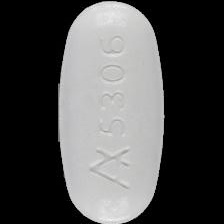68084-108: (0, 0, 224, 224)
